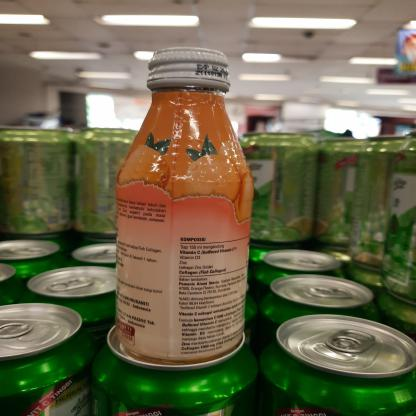keyboard: (106, 41, 260, 367)
